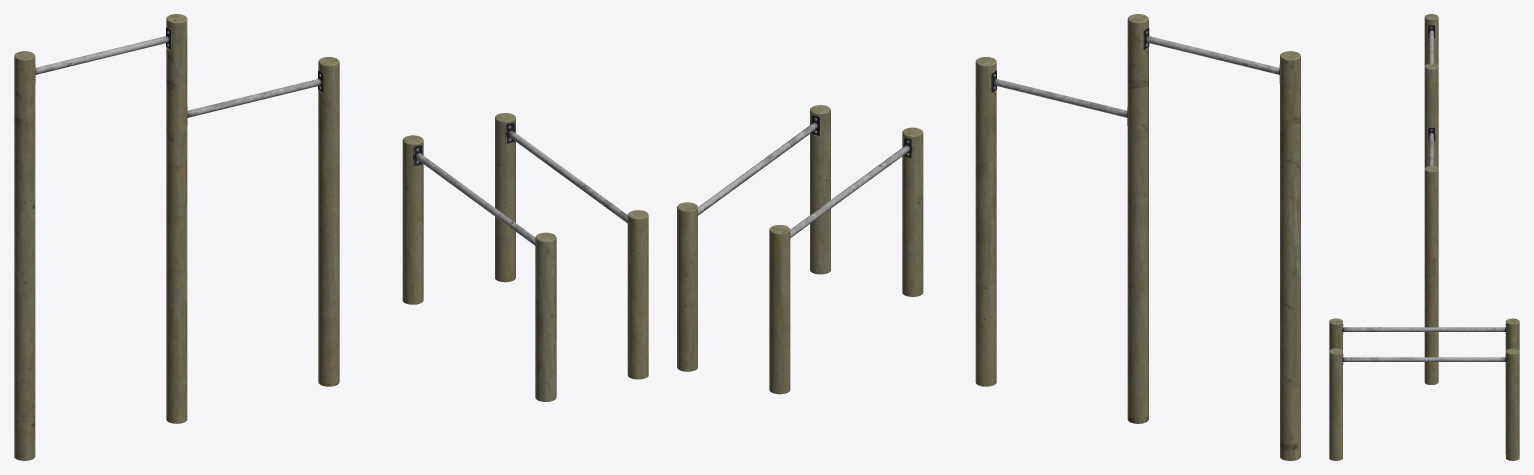
The model's file is outdoor_gymnastics_pullup_bar.glb.
The picture shows the model from 3 angles, left to right: view 1: azimuth 30°, elevation 25°; view 2: azimuth 150°, elevation 25°; view 3: azimuth 270°, elevation 25°; orthographic projection. The views are drawn at different scales.
Parts seen in each view (by area): view 1: timber_0, bars_metal_1; view 2: timber_0, bars_metal_1; view 3: timber_0, bars_metal_1.
Part boxes in pixels (<box>): timber_0: <box>14,14,648,460</box>; bars_metal_1: <box>35,27,627,245</box>; timber_0: <box>677,14,1300,460</box>; bars_metal_1: <box>698,27,1279,237</box>; timber_0: <box>1329,14,1519,460</box>; bars_metal_1: <box>1342,25,1506,367</box>.
Bounding box in the file's own units: 3.65 × 2.5 × 1.62.
3 materials, 3 textured.
